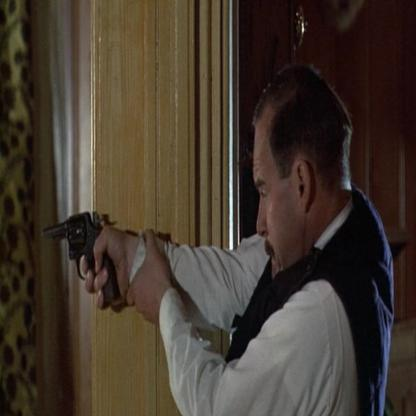gun: (43, 198, 126, 313)
